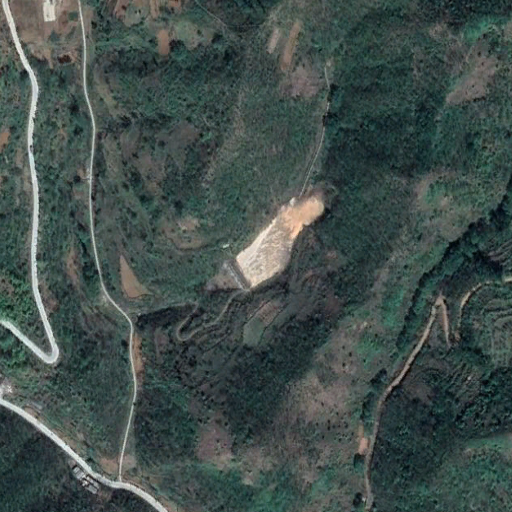tp: (202, 185, 324, 293)
